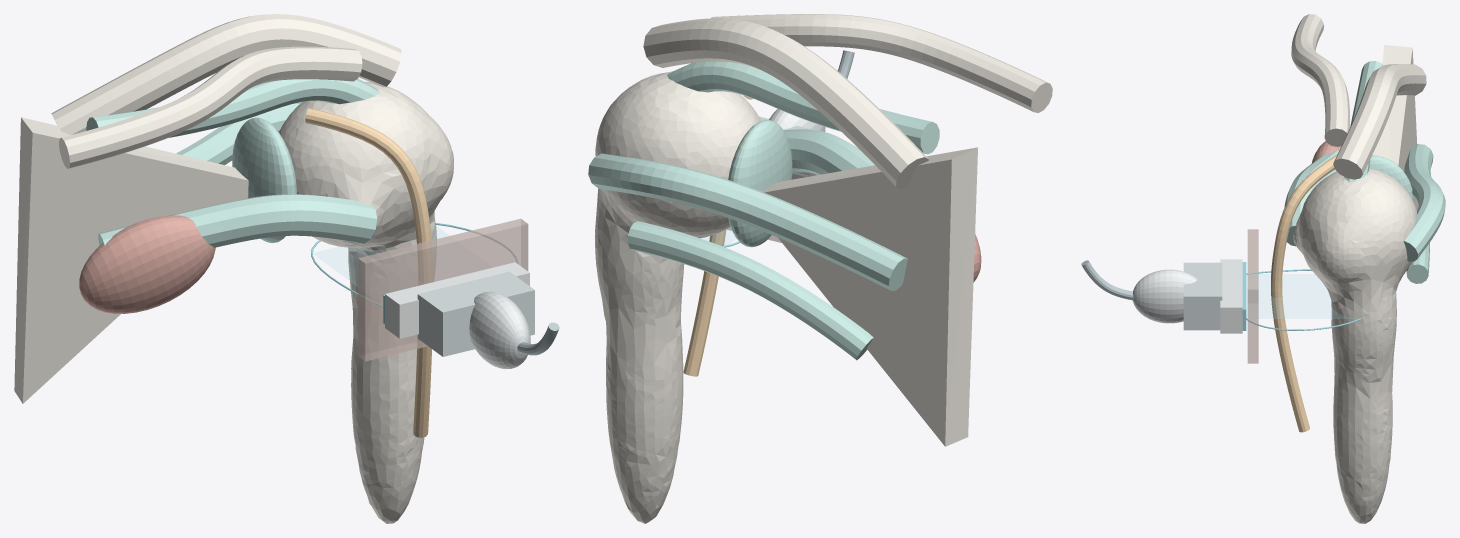
Rendered from shoulder-short.glb.
The picture shows the model from 3 angles, left to right: view 1: azimuth 30°, elevation 25°; view 2: azimuth 150°, elevation 25°; view 3: azimuth 270°, elevation 25°; orthographic projection. The views are drawn at different scales.
Parts seen in each view (by area): view 1: Humerus, Scapular blade - simplified, Acromion, Clavicle - partial, Local skin contact patch - surrounding skin omitted, Subscapularis - partial, Subscapularis tendon, Long head of biceps tendon, Transducer body, Supraspinatus tendon, Glenoid surface, Transducer grip (+3 smaller); view 2: Humerus, Scapular blade - simplified, Acromion, Infraspinatus tendon, Clavicle - partial, Teres minor tendon, Supraspinatus tendon, Glenoid surface, Subscapularis tendon, Long head of biceps tendon, Transducer grip; view 3: Humerus, Acromion, Clavicle - partial, Long head of biceps tendon, Infraspinatus tendon, Illustrative imaging plane - not a simulated sonogram, Scapular blade - simplified, Transducer body, Transducer grip, Transducer head, Local skin contact patch - surrounding skin omitted, Subscapularis tendon (+4 smaller).
Boxes of the visible parts, bbox=[...] form: Humerus: bbox=[279, 81, 453, 523]; Scapular blade - simplified: bbox=[14, 117, 248, 403]; Acromion: bbox=[51, 14, 401, 134]; Clavicle - partial: bbox=[59, 46, 362, 168]; Local skin contact patch - surrounding skin omitted: bbox=[358, 218, 528, 361]; Subscapularis - partial: bbox=[79, 215, 215, 313]; Subscapularis tendon: bbox=[98, 194, 377, 247]; Long head of biceps tendon: bbox=[305, 108, 432, 437]; Transducer body: bbox=[417, 271, 534, 356]; Supraspinatus tendon: bbox=[86, 79, 380, 137]; Glenoid surface: bbox=[232, 117, 296, 243]; Transducer grip: bbox=[469, 291, 530, 369]; Humerus: bbox=[595, 71, 760, 523]; Scapular blade - simplified: bbox=[762, 147, 977, 446]; Acromion: bbox=[643, 18, 928, 188]; Infraspinatus tendon: bbox=[588, 153, 907, 290]; Clavicle - partial: bbox=[710, 14, 1052, 112]; Teres minor tendon: bbox=[627, 221, 873, 360]; Supraspinatus tendon: bbox=[667, 61, 939, 154]; Glenoid surface: bbox=[728, 120, 792, 247]; Subscapularis tendon: bbox=[784, 129, 874, 174]; Long head of biceps tendon: bbox=[683, 95, 753, 376]; Transducer grip: bbox=[769, 109, 825, 131]; Humerus: bbox=[1293, 168, 1416, 523]; Acromion: bbox=[1333, 64, 1426, 179]; Clavicle - partial: bbox=[1291, 14, 1349, 146]; Long head of biceps tendon: bbox=[1271, 154, 1337, 432]; Infraspinatus tendon: bbox=[1403, 144, 1445, 261]; Illustrative imaging plane - not a simulated sonogram: bbox=[1247, 274, 1353, 318]; Scapular blade - simplified: bbox=[1373, 45, 1418, 209]; Transducer body: bbox=[1183, 262, 1222, 330]; Transducer grip: bbox=[1132, 269, 1197, 323]; Transducer head: bbox=[1220, 259, 1242, 333]; Local skin contact patch - surrounding skin omitted: bbox=[1247, 229, 1258, 363]; Subscapularis tendon: bbox=[1284, 150, 1338, 246].
Bounding box in the file's own units: 3.07 × 3.55 × 2.94.
